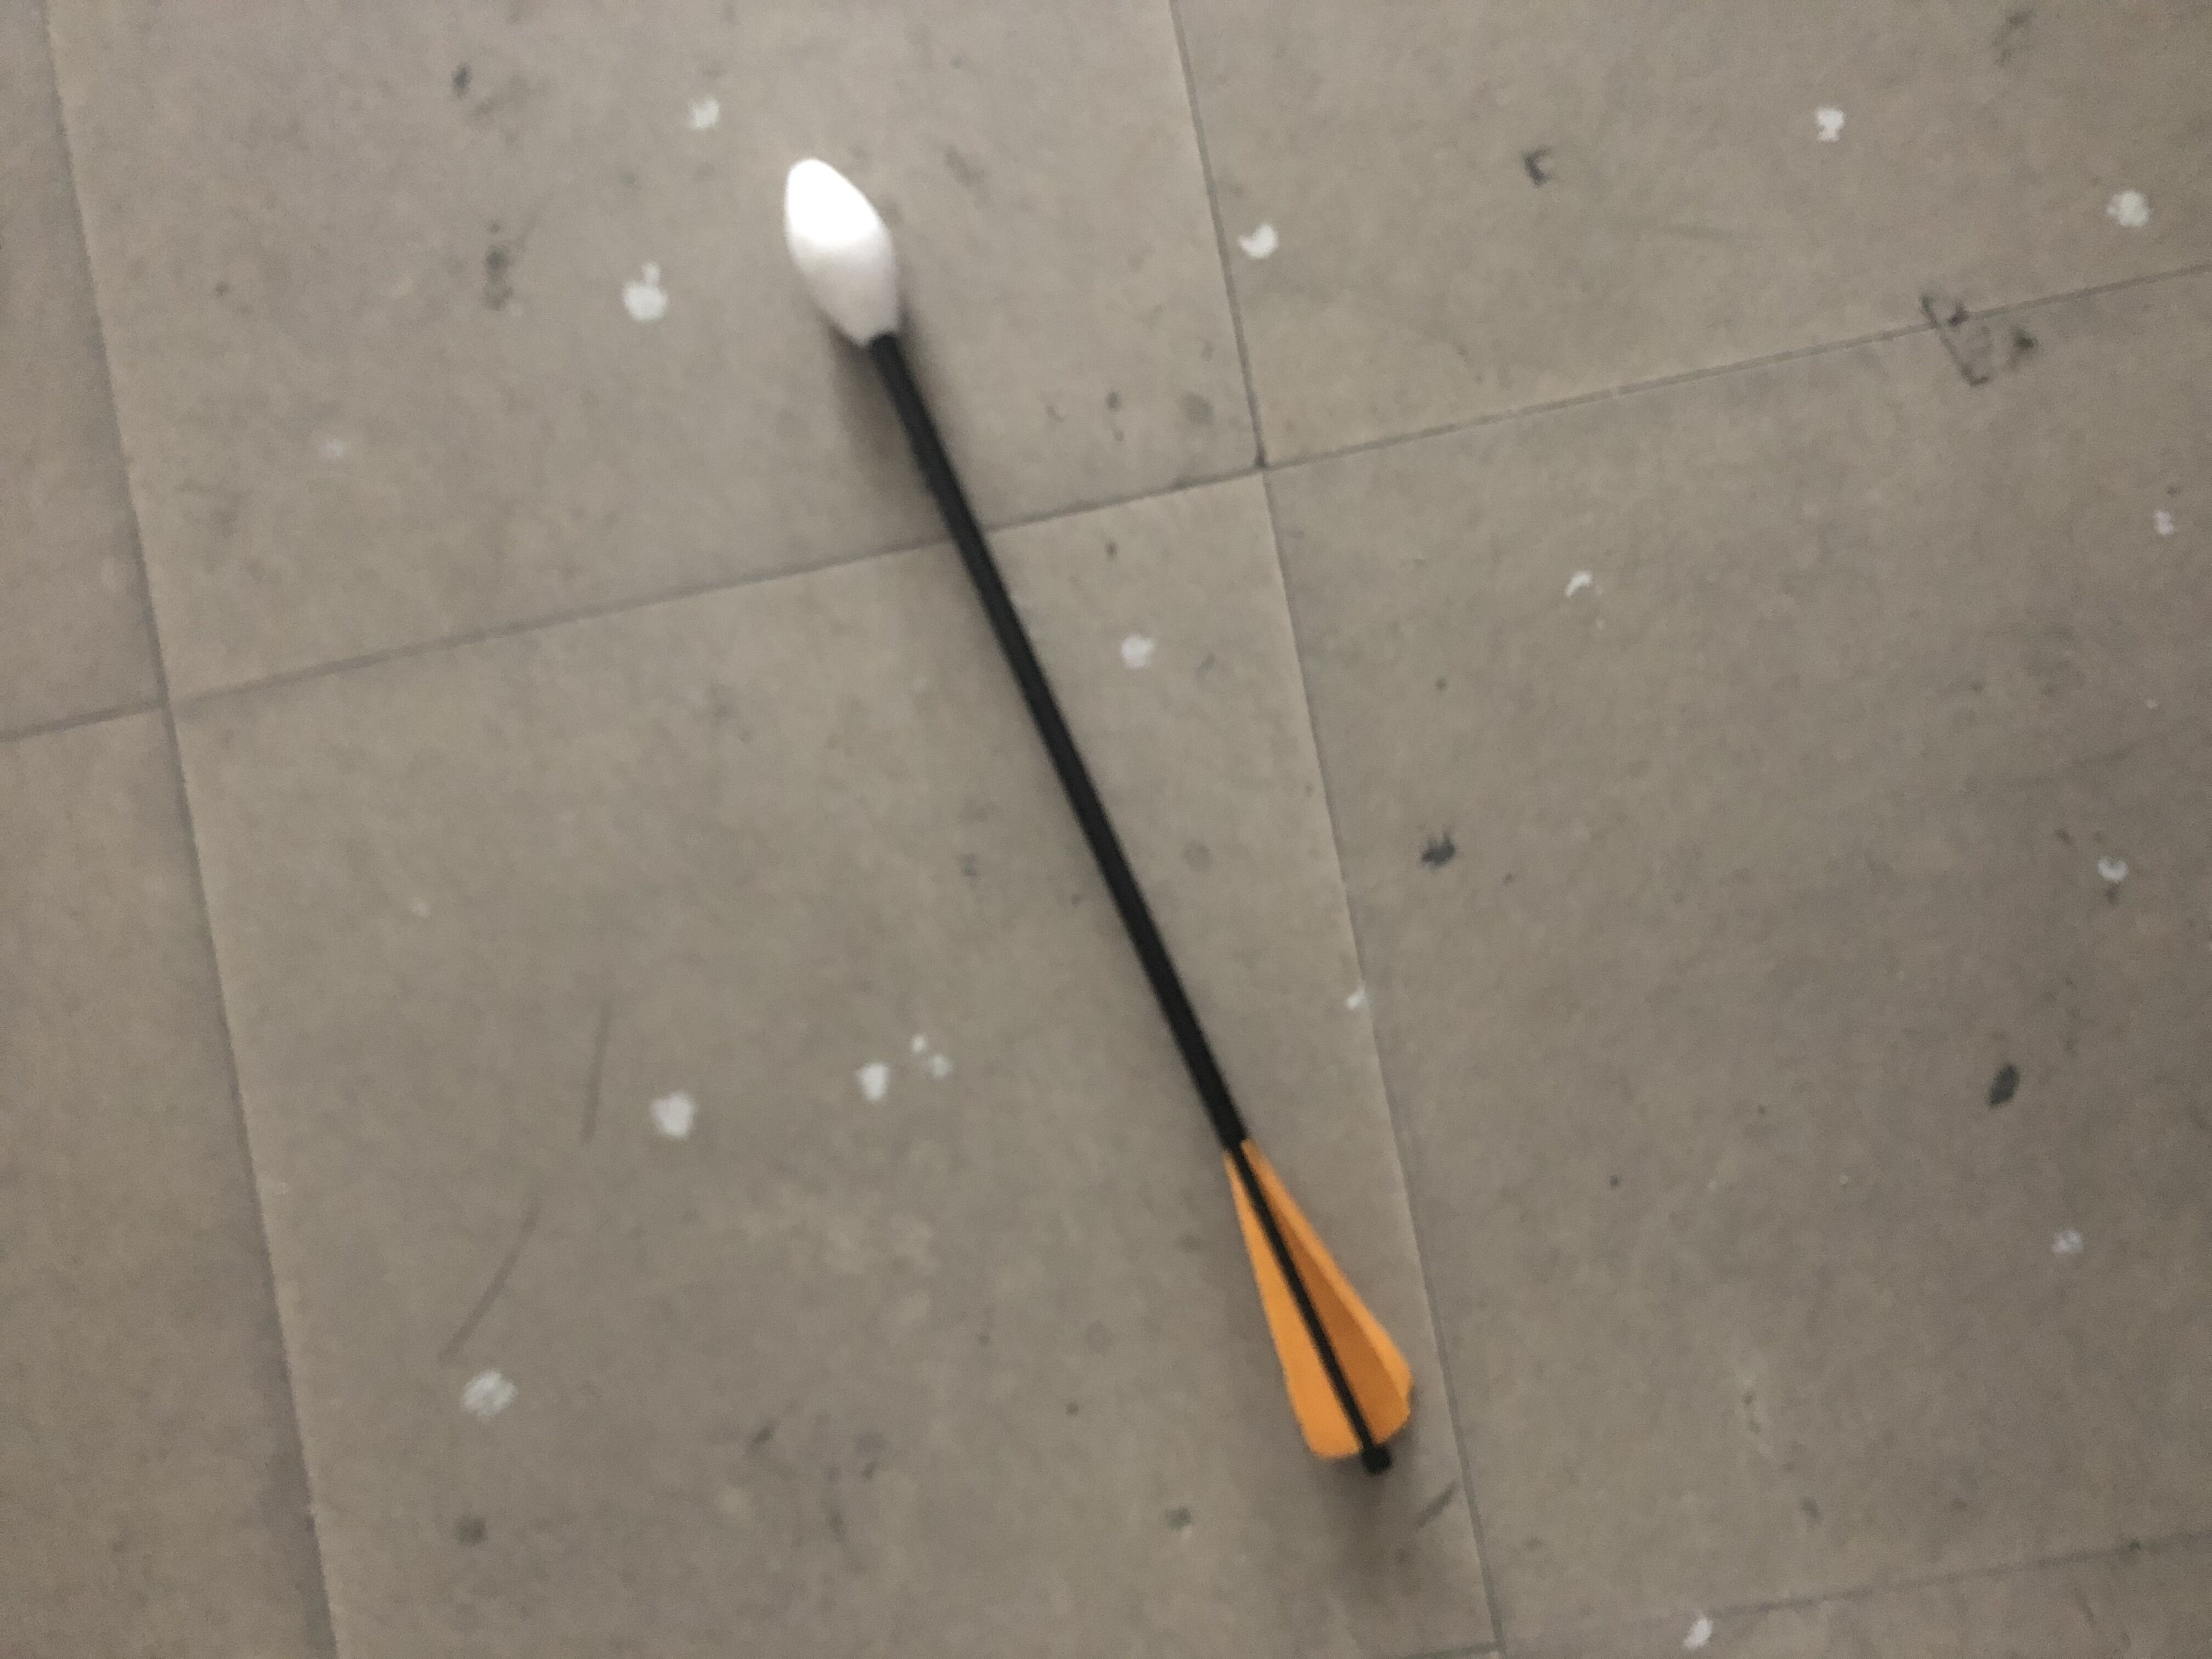arrow: (779, 152, 1425, 1485)
arrowFront: (780, 146, 909, 356)
